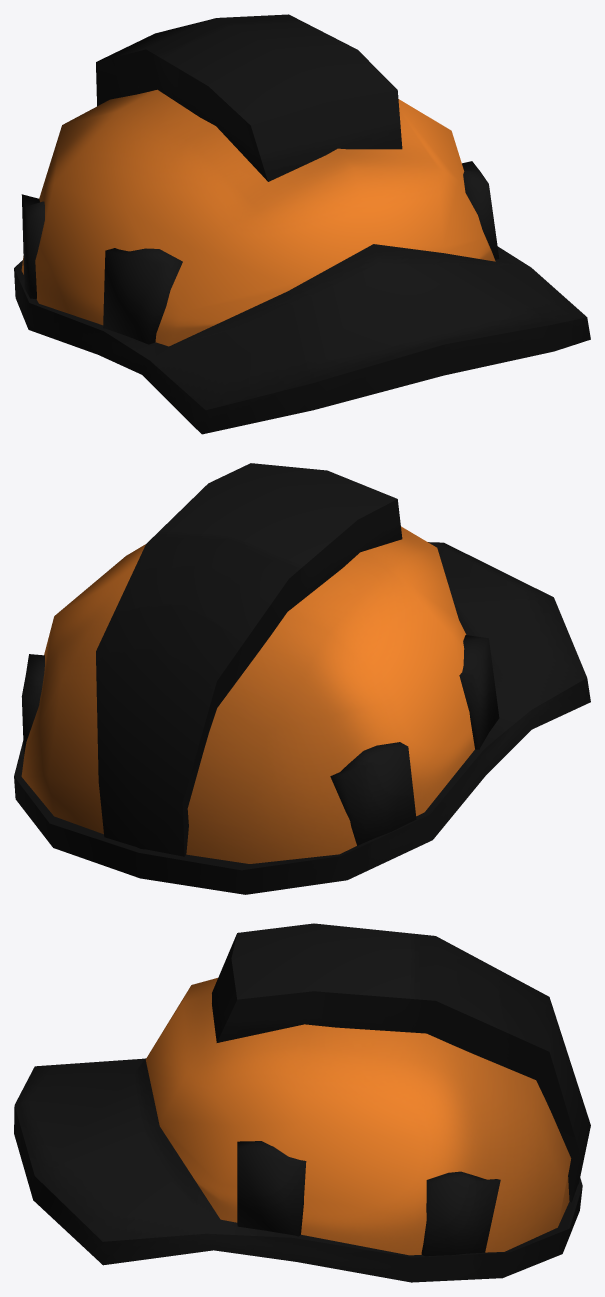
File: haed hat.obj
3 views of the same model, one above another, from view 1: azimuth 30°, elevation 25°; view 2: azimuth 150°, elevation 25°; view 3: azimuth 270°, elevation 25° (orthographic). The views are drawn at different scales.
Parts seen in each view (by area): view 1: hard_hat; view 2: hard_hat; view 3: hard_hat.
Part boxes in pixels (left/top/right/bottom): hard_hat: left=14, top=14, right=590, bottom=434; hard_hat: left=14, top=463, right=590, bottom=894; hard_hat: left=14, top=923, right=590, bottom=1282.
Size of the model in its own units: 1.3 by 0.8794 by 1.73.
